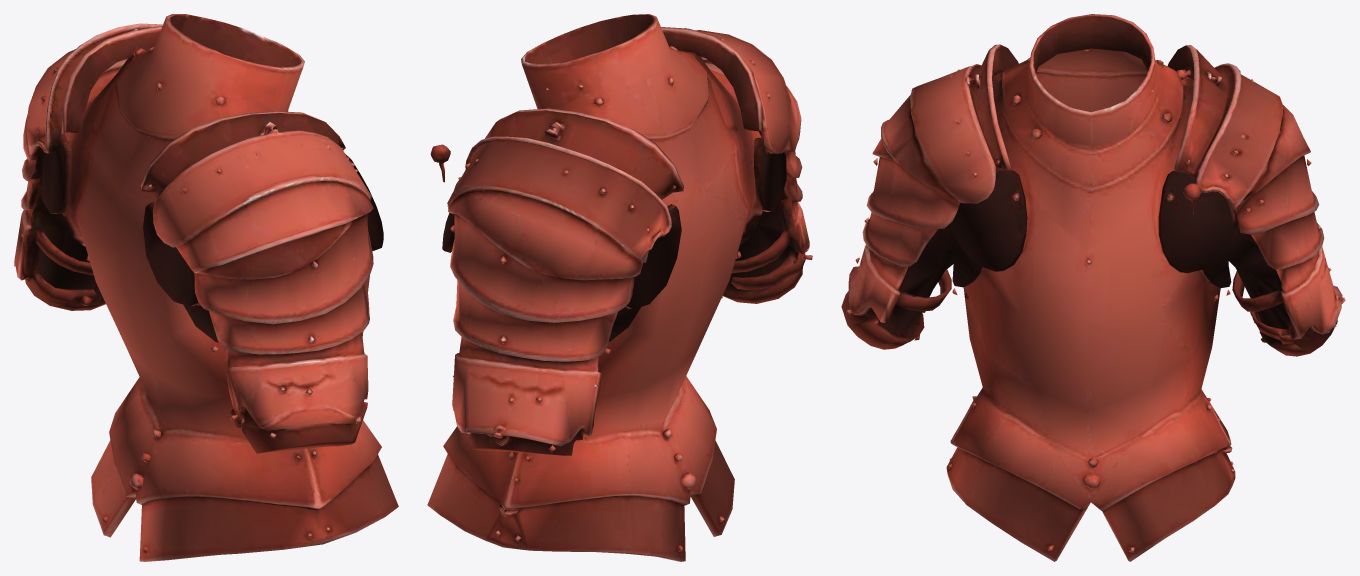
File: dravok_s_platebody.glb
The picture shows the model from 3 angles, left to right: view 1: azimuth 30°, elevation 25°; view 2: azimuth 150°, elevation 25°; view 3: azimuth 270°, elevation 25°; orthographic projection. The views are drawn at different scales.
Parts seen in each view (by area): view 1: tripo_node_bc80c6f8-d932-48cd-8371-e106c18d9efe; view 2: tripo_node_bc80c6f8-d932-48cd-8371-e106c18d9efe; view 3: tripo_node_bc80c6f8-d932-48cd-8371-e106c18d9efe.
Part boxes in pixels (box(x1,y1,x2,y2)): tripo_node_bc80c6f8-d932-48cd-8371-e106c18d9efe: box(14, 14, 398, 561); tripo_node_bc80c6f8-d932-48cd-8371-e106c18d9efe: box(427, 14, 812, 561); tripo_node_bc80c6f8-d932-48cd-8371-e106c18d9efe: box(841, 14, 1345, 561).
Bounding box in the file's own units: 0.5488 × 0.998 × 0.9746.
1 material, 1 textured.
